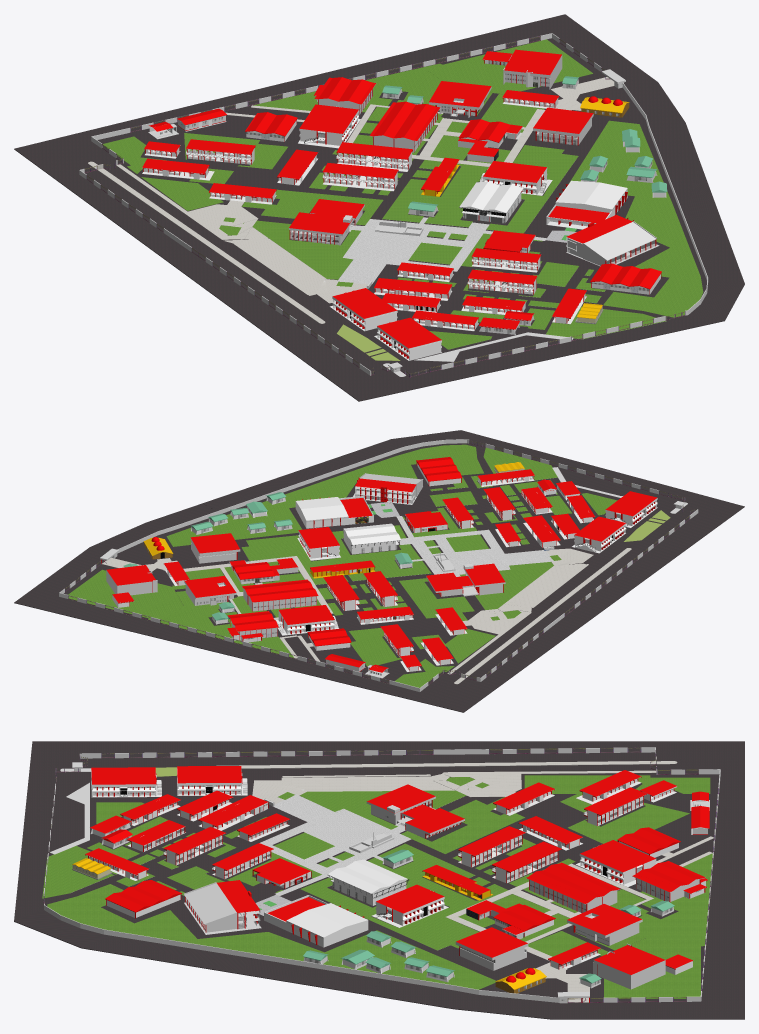
The model's file is campus.glb.
3 views of the same model, one above another, from view 1: azimuth 30°, elevation 25°; view 2: azimuth 150°, elevation 25°; view 3: azimuth 270°, elevation 25° (orthographic). The views are drawn at different scales.
Parts seen in each view (by area): view 1: Geom3D (×38), Geom3D_ (×9), Geom3D_Edificio_Q; view 2: Geom3D (×31), Geom3D_ (×11), Geom3D_Lab_Depto_Ing_Mecanica_Lab_Quimaca_Pesada; view 3: Geom3D (×48), Geom3D_ (×17), Geom3D_Edificio_Q, Geom3D_Lab_Depto_Ing_Mecanica_Lab_Quimaca_Pesada, Geom3D_Lab_Ing_Electrica.
Boxes of the visible parts, x1,y1,x2,y2 form: Geom3D (×38): (14,14,744,401); Geom3D_ (×9): (88,39,703,361); Geom3D_Edificio_Q: (583,221,656,265); Geom3D (×31): (14,430,744,712); Geom3D_ (×11): (68,439,631,687); Geom3D_Lab_Depto_Ing_Mecanica_Lab_Quimaca_Pesada: (242,587,318,611); Geom3D (×48): (14,741,744,1019); Geom3D_ (×17): (44,756,710,1002); Geom3D_Edificio_Q: (184,882,237,932); Geom3D_Lab_Depto_Ing_Mecanica_Lab_Quimaca_Pesada: (526,878,620,912); Geom3D_Lab_Ing_Electrica: (636,878,699,901).
Bounding box in the file's own units: 285 × 9.37 × 317.
Materials: 58 (27 with a texture image).
